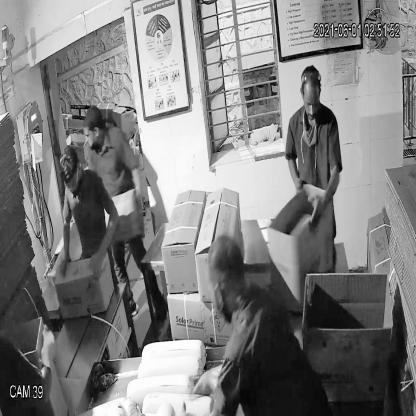no_goggles: (297, 92, 324, 114)
